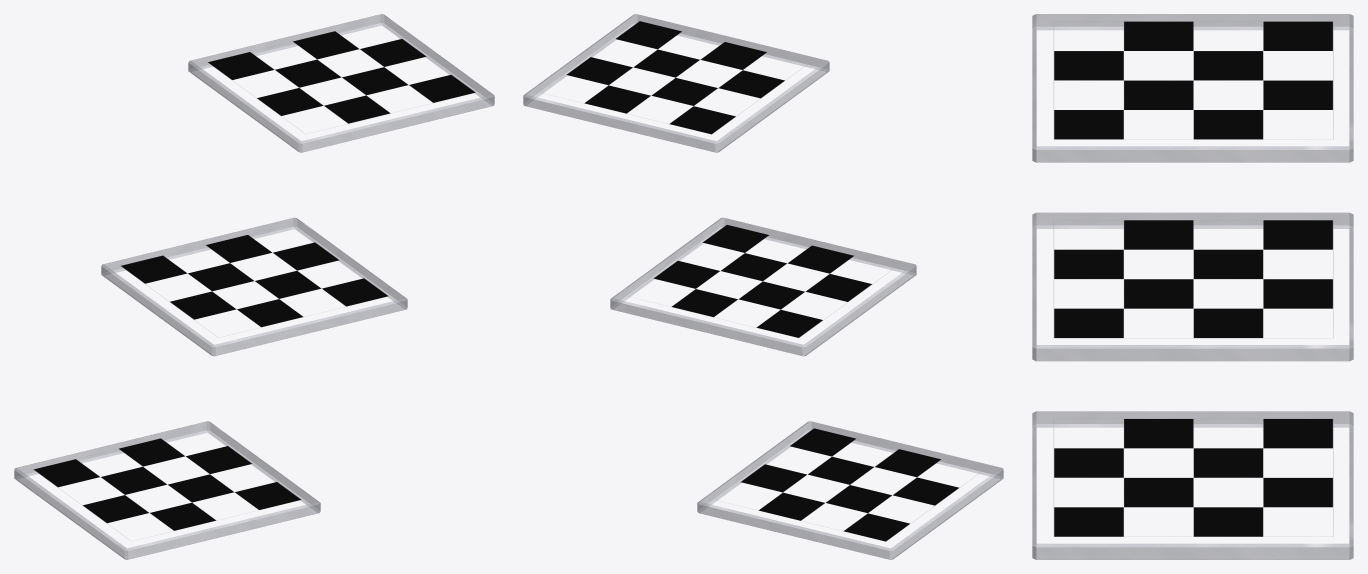
The model's file is board.glb.
3 renders of one model, left to right at view 1: azimuth 30°, elevation 25°; view 2: azimuth 150°, elevation 25°; view 3: azimuth 270°, elevation 25°, orthographic. The views are drawn at different scales.
Visible parts, largest first — view 1: boards; view 2: boards; view 3: boards.
Boxes of the visible parts, x1,y1,x2,y2 form: boards: [14, 14, 494, 559]; boards: [523, 14, 1003, 559]; boards: [1032, 14, 1353, 559].
Size of the model in its own units: 8.5 by 8.25 by 4.5.
1 material, 1 textured.
